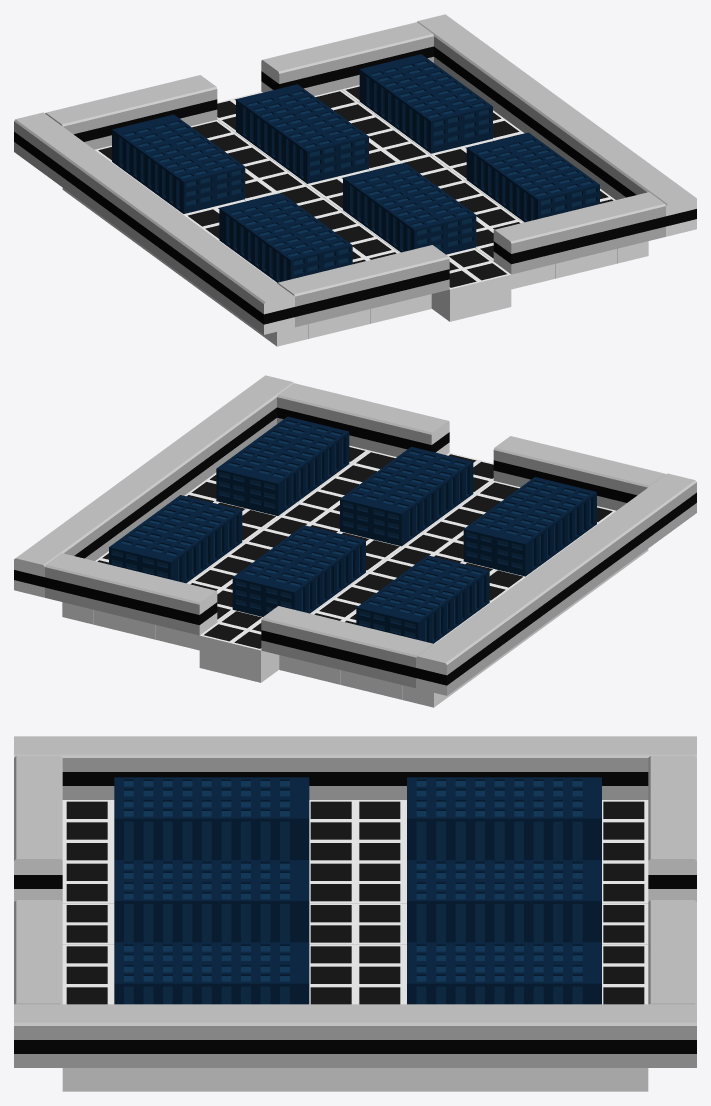
The model's file is cargoSmall1.fbx.
3 views of the same model, one above another, from view 1: azimuth 30°, elevation 25°; view 2: azimuth 150°, elevation 25°; view 3: azimuth 270°, elevation 25° (orthographic). The views are drawn at different scales.
Visible parts, largest first — view 1: Cube.163, Cube.196, Cube.009, Cube.199, Cube.195, Cube.001, Cube.008, Cube.198, Cube.197, Cube.164, Cube.003, Cube.194 (+58 smaller); view 2: Cube.199, Cube.001, Cube.195, Cube.196, Cube.163, Cube.009, Cube.197, Cube.003, Cube.194, Cube.198, Cube.008, Cube.164 (+60 smaller); view 3: Cube.198, Cube.197, Cube.003, Cube.008, Cube.194, Cube.164, Cube.001, Cube.195, Cube.199, Cube.009, Cube.163, Cube.196 (+100 smaller).
Boxes of the visible parts, left/top/right/bottom form: Cube.163: left=359, top=61, right=461, bottom=153; Cube.196: left=236, top=92, right=338, bottom=183; Cube.009: left=112, top=122, right=214, bottom=213; Cube.199: left=343, top=170, right=445, bottom=253; Cube.195: left=466, top=140, right=568, bottom=222; Cube.001: left=219, top=200, right=321, bottom=282; Cube.008: left=143, top=114, right=245, bottom=206; Cube.198: left=374, top=162, right=476, bottom=254; Cube.197: left=267, top=84, right=368, bottom=176; Cube.164: left=391, top=54, right=492, bottom=145; Cube.003: left=250, top=193, right=352, bottom=271; Cube.194: left=498, top=132, right=599, bottom=211; Cube.199: left=370, top=454, right=473, bottom=546; Cube.001: left=494, top=484, right=596, bottom=576; Cube.195: left=247, top=424, right=349, bottom=515; Cube.196: left=263, top=532, right=365, bottom=616; Cube.163: left=140, top=502, right=242, bottom=583; Cube.009: left=387, top=563, right=489, bottom=643; Cube.197: left=232, top=525, right=334, bottom=616; Cube.003: left=463, top=477, right=565, bottom=568; Cube.194: left=216, top=416, right=317, bottom=508; Cube.198: left=340, top=446, right=441, bottom=538; Cube.008: left=356, top=555, right=458, bottom=632; Cube.164: left=109, top=495, right=210, bottom=571; Cube.198: left=114, top=880, right=309, bottom=942; Cube.197: left=407, top=880, right=601, bottom=942; Cube.003: left=114, top=798, right=309, bottom=859; Cube.008: left=407, top=798, right=601, bottom=859; Cube.194: left=114, top=963, right=309, bottom=1004; Cube.164: left=407, top=963, right=601, bottom=1004; Cube.001: left=114, top=777, right=309, bottom=797; Cube.195: left=114, top=942, right=309, bottom=962; Cube.199: left=114, top=860, right=309, bottom=880; Cube.009: left=407, top=777, right=601, bottom=797; Cube.163: left=407, top=942, right=601, bottom=962; Cube.196: left=407, top=860, right=601, bottom=880.
Size of the model in its own units: 2800 by 400 by 2800.
